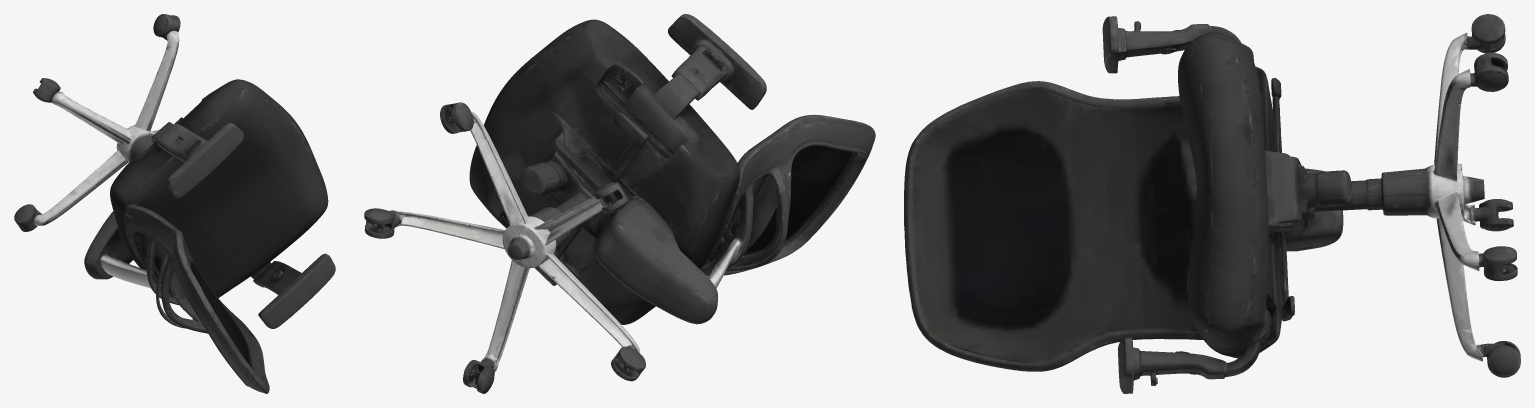
The picture shows the model from 3 angles, left to right: view 1: azimuth 30°, elevation 25°; view 2: azimuth 150°, elevation 25°; view 3: azimuth 270°, elevation 25°; orthographic projection. The views are drawn at different scales.
Parts seen in each view (by area): view 1: Mesh_0.015; view 2: Mesh_0.015; view 3: Mesh_0.015.
Part boxes in pixels (left/top/right/bottom): Mesh_0.015: left=14, top=14, right=335, bottom=393; Mesh_0.015: left=364, top=14, right=875, bottom=393; Mesh_0.015: left=904, top=14, right=1520, bottom=393.
Bounding box in the file's own units: 0.0211 × 0.0214 × 0.0327.
Materials: 1 (1 with a texture image).
